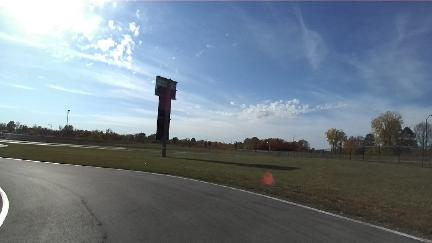Grass: (0, 144, 431, 237)
Lane: (0, 159, 419, 242)
